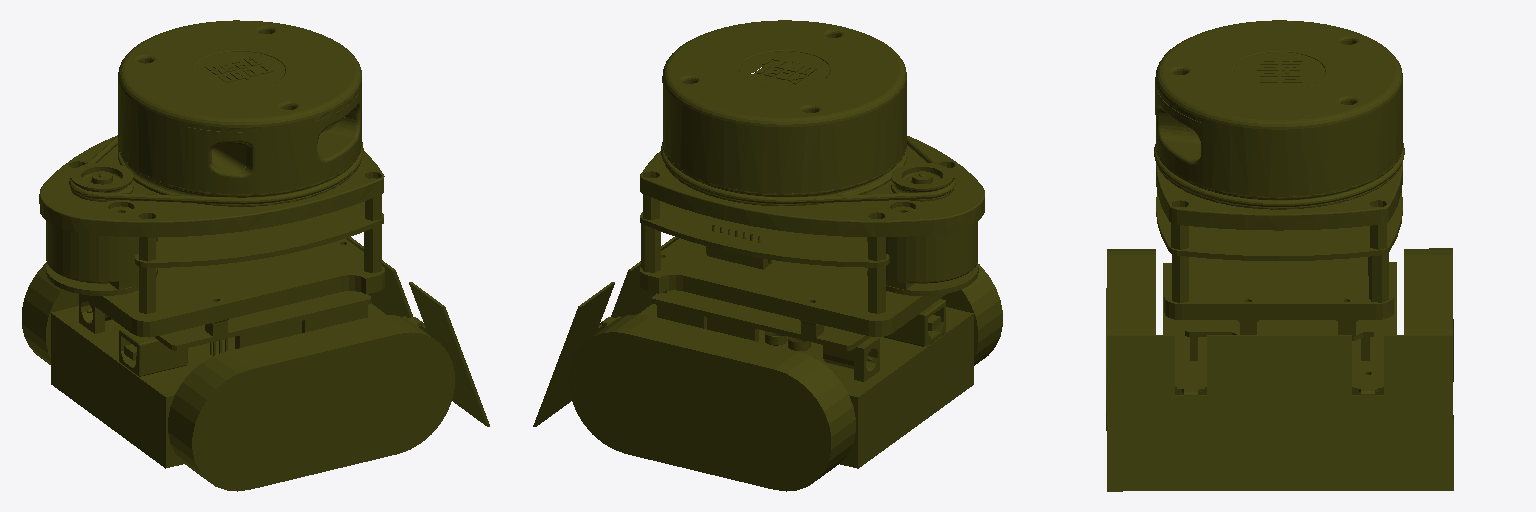
URDF robot description (zumo32u4):
<?xml version="1.0"?>
<robot name="zumo32u4">
    <link name="map"/>
    <link name="imu"/>
    <link name="odom"/>
    <link name="scan"/>
    <link name="base_link">
        <visual>
            <origin rpy="0 0 3.14" xyz="0 0 0"/>
            <geometry>
                <mesh filename="package://zumo32u4/urdf/zumo32u4.STL" scale="1 1 1"/>
            </geometry>
            <material name="Grey">
                <color rgba="0.30 0.30 0.10 1.0"/>
            </material>
        </visual>
    </link>
    <joint name="jointbaselink" type="fixed">
        <parent link="map"/>
        <child link="base_link"/>
        <axis xyz="0 0 1"/>
        <origin rpy="0 0 0" xyz="0 0 0"/>
    </joint>
    <joint name="jointimu" type="fixed">
        <parent link="base_link"/>
        <child link="imu"/>
        <origin rpy="0 0 0" xyz="0 0 0"/>
    </joint>
    <joint name="jointodom" type="fixed">
        <parent link="base_link"/>
        <child link="odom"/>
        <origin rpy="0 0 0" xyz="0 0 0"/>
    </joint>
    <joint name="jointscan" type="fixed">
        <parent link="base_link"/>
        <child link="scan"/>
        <origin rpy="0 0 0" xyz="0 0 0.08"/>
    </joint>  
</robot>

--- What the picture shows (computed from the rendered views, not written in the file) ---
The picture shows the robot from 3 angles, left to right: view 1: azimuth 30°, elevation 25°; view 2: azimuth 150°, elevation 25°; view 3: azimuth 270°, elevation 25°; orthographic projection.
Model zumo32u4 with 5 links and 4 joints (4 fixed), rooted at map, posed all joints at 0.
Links seen in each view (by area): view 1: base_link; view 2: base_link; view 3: base_link.
Boxes of the visible links, left/top/right/bottom form: base_link: left=22, top=20, right=489, bottom=491; base_link: left=533, top=20, right=1002, bottom=491; base_link: left=1106, top=20, right=1453, bottom=491.
Size in the robot's own frame: 0.1183 by 0.0981 by 0.1075 metres.
1 mesh visuals loaded from 1 distinct referenced files (1 binary STL).